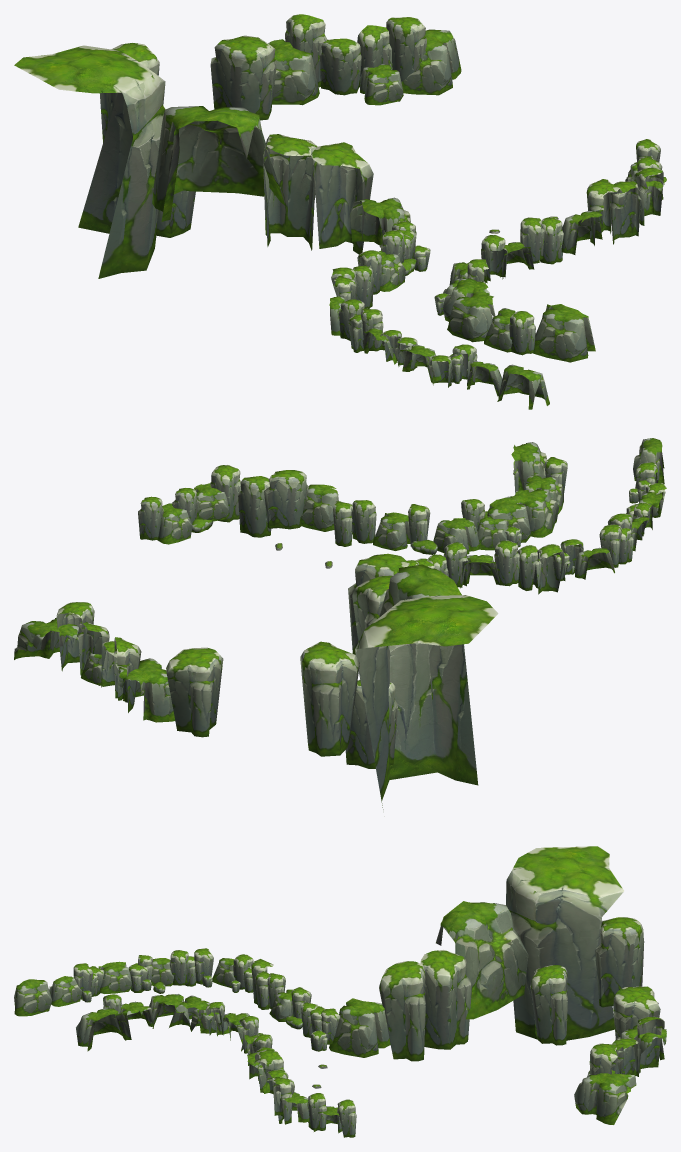
Rendered from lvyanshi_01.fbx.
3 renders of one model, top to bottom at view 1: azimuth 30°, elevation 25°; view 2: azimuth 150°, elevation 25°; view 3: azimuth 270°, elevation 25°, orthographic. The views are drawn at different scales.
Visible parts, largest first — view 1: polySurface419; view 2: polySurface419; view 3: polySurface419.
Part boxes in pixels (<box>): polySurface419: <box>14,14,666,409</box>; polySurface419: <box>14,438,666,809</box>; polySurface419: <box>14,846,666,1137</box>.
Bounding box in the file's own units: 13260 × 5002 × 18835.
Materials: 1 (1 with a texture image).
